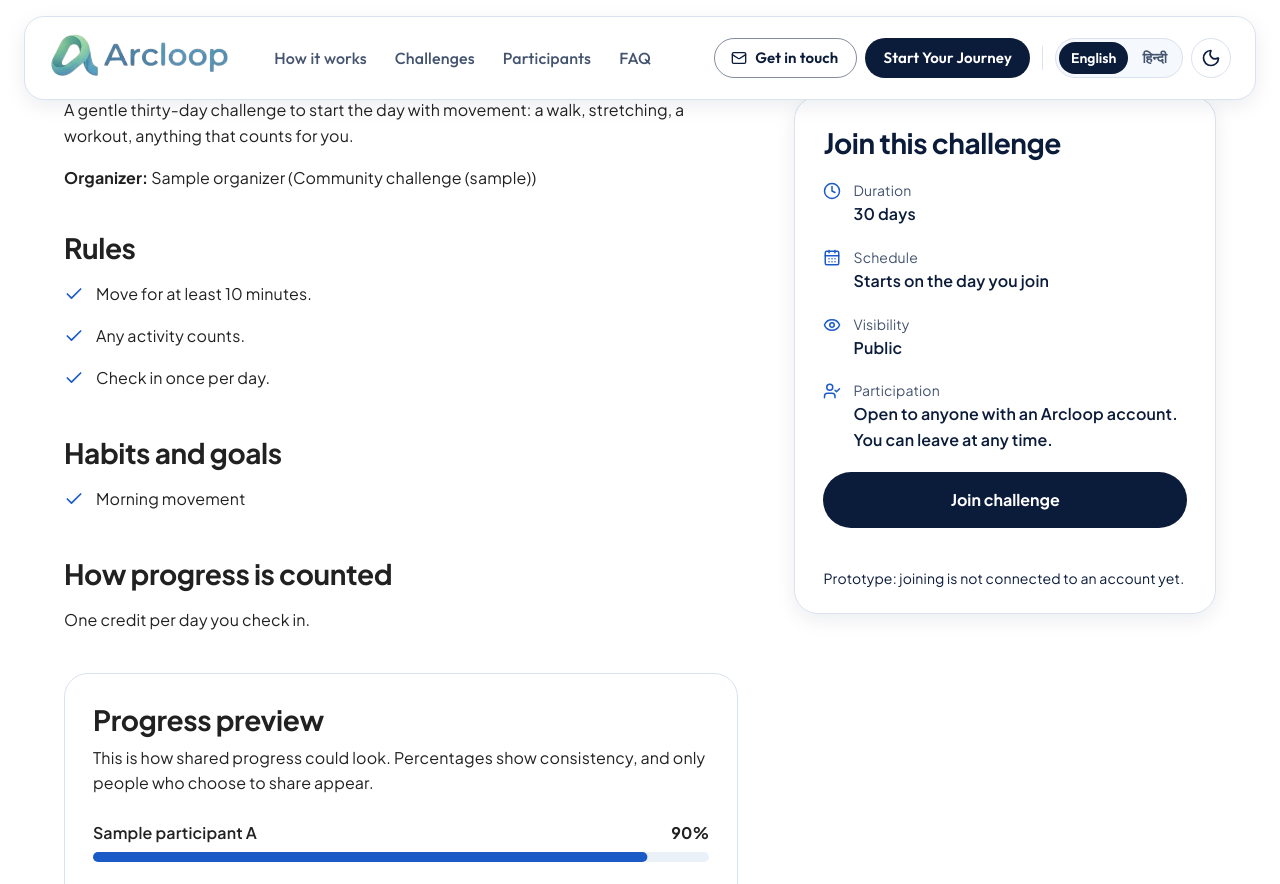
Scenario: Challenge details › join/leave is a prototype that says nothing was saved
(page scrolled)
Click the button "Join challenge": (1005, 500) [824,472,1187,528]
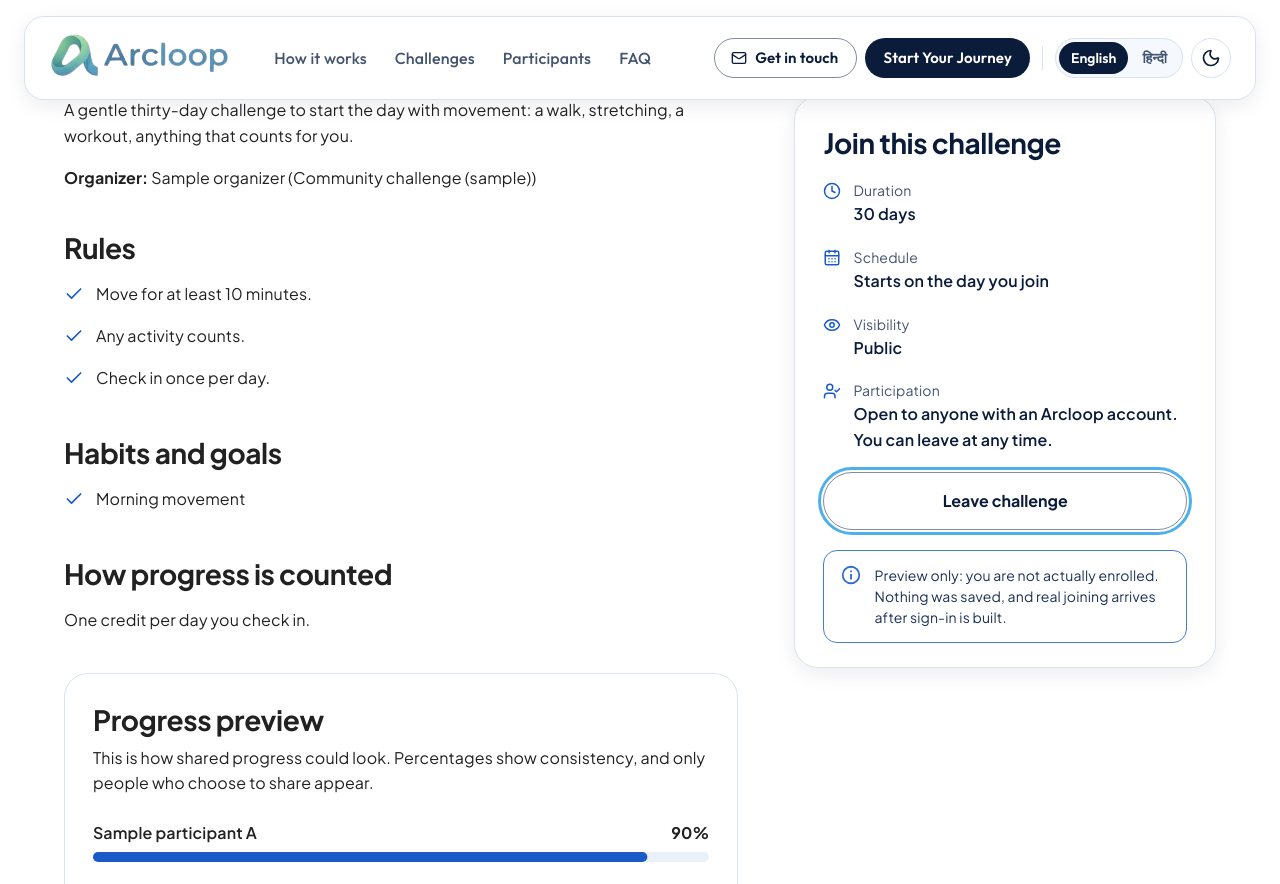
Expected: the text "not actually enrolled" is shown, [874,566,1159,626]
Click the button "Leave challenge": (1005, 501) [824,472,1187,530]
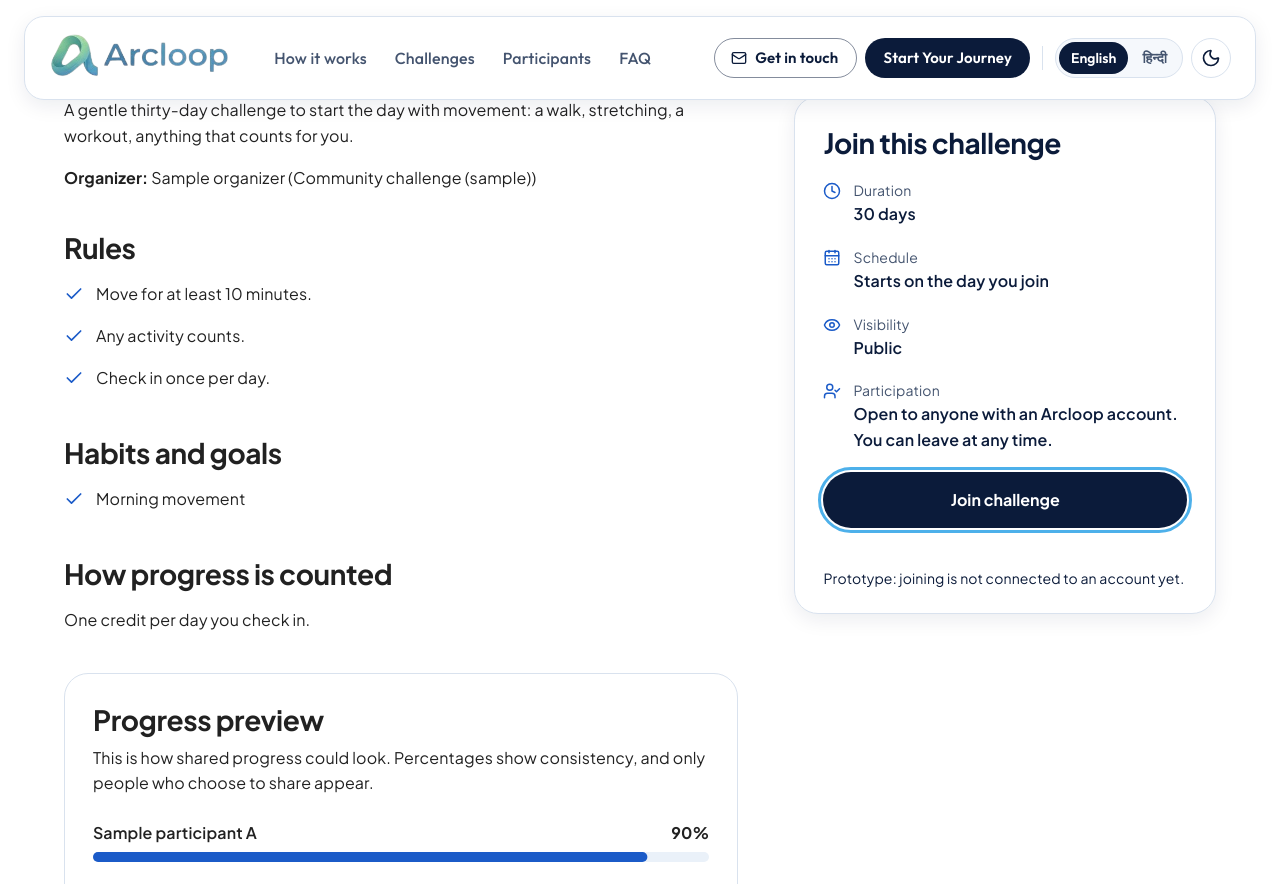
Expected: the button "Join challenge" is shown, [824,472,1187,528]
